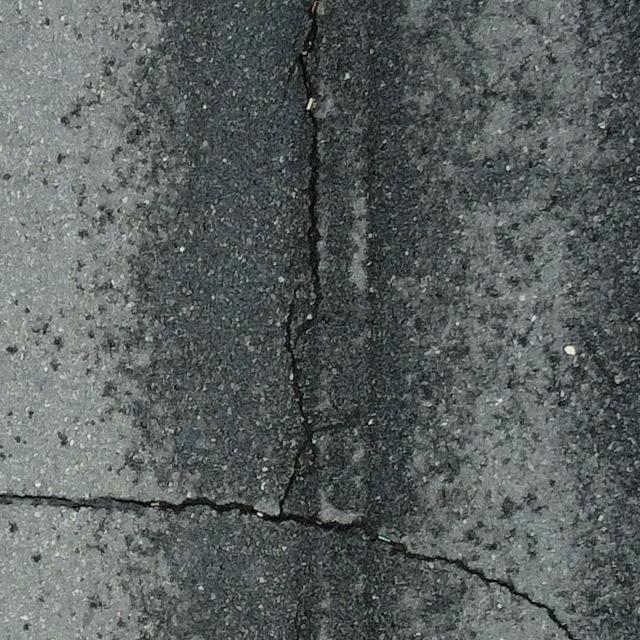LongitudinalCrack: (273, 1, 321, 511)
TransverseCrack: (1, 493, 575, 640)
